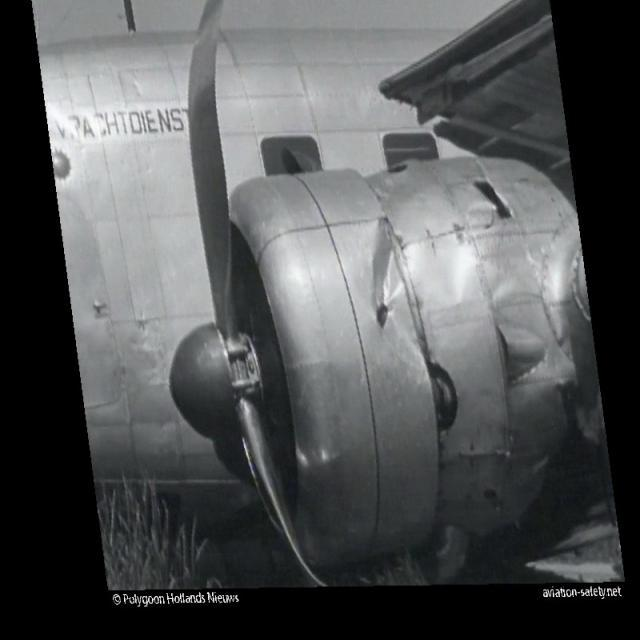dent: (358, 246, 409, 330)
